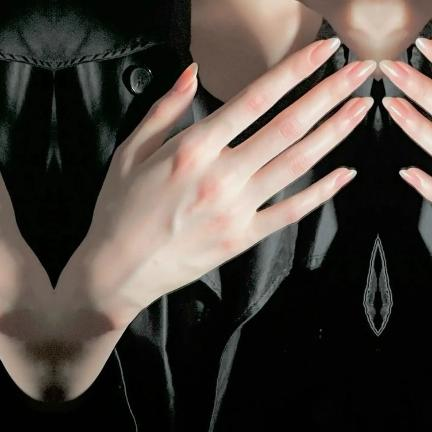Nail: (309, 38, 339, 67), (346, 60, 376, 86), (379, 60, 409, 86), (172, 63, 197, 93), (348, 97, 373, 122), (382, 97, 407, 122), (415, 38, 432, 63), (333, 170, 356, 188), (399, 170, 422, 188)
